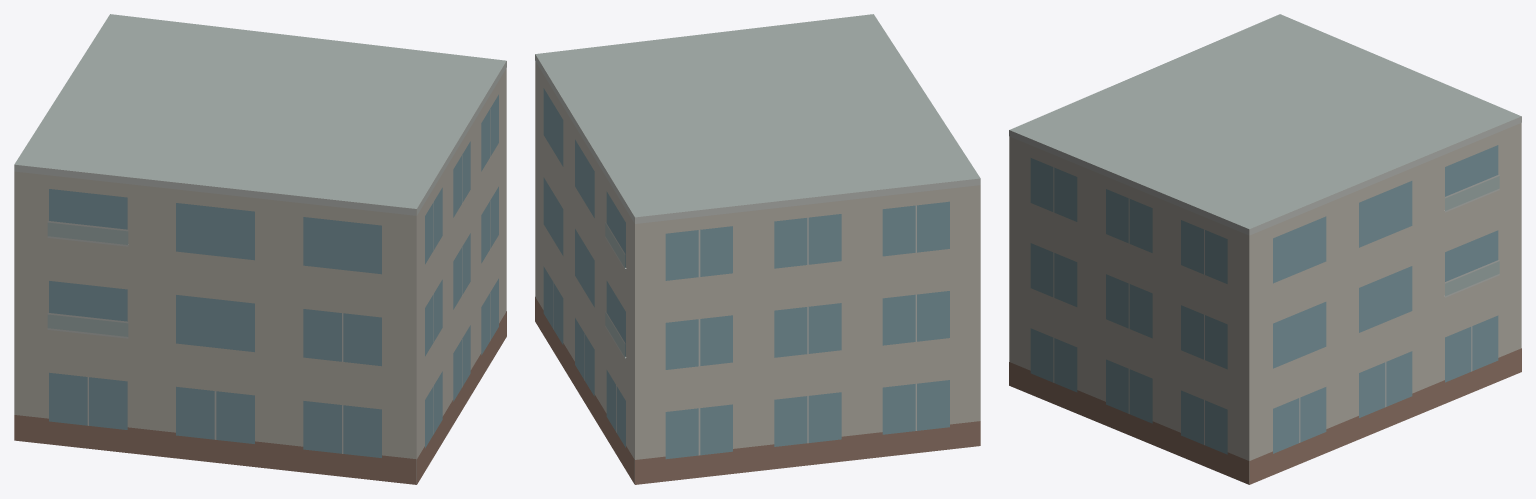
File: survey-upis-33000539.glb
3 renders of one model, left to right at view 1: azimuth 30°, elevation 25°; view 2: azimuth 150°, elevation 25°; view 3: azimuth 270°, elevation 25°, orthographic. The views are drawn at different scales.
Parts seen in each view (by area): view 1: survey-upis-33000539.tmp; view 2: survey-upis-33000539.tmp; view 3: survey-upis-33000539.tmp.
Part boxes in pixels (x1=…): survey-upis-33000539.tmp: x1=14, y1=14, x2=506, y2=484; survey-upis-33000539.tmp: x1=535, y1=14, x2=980, y2=484; survey-upis-33000539.tmp: x1=1009, y1=14, x2=1521, y2=484.
Bounding box in the file's own units: 17.7 × 9.8 × 17.81.
